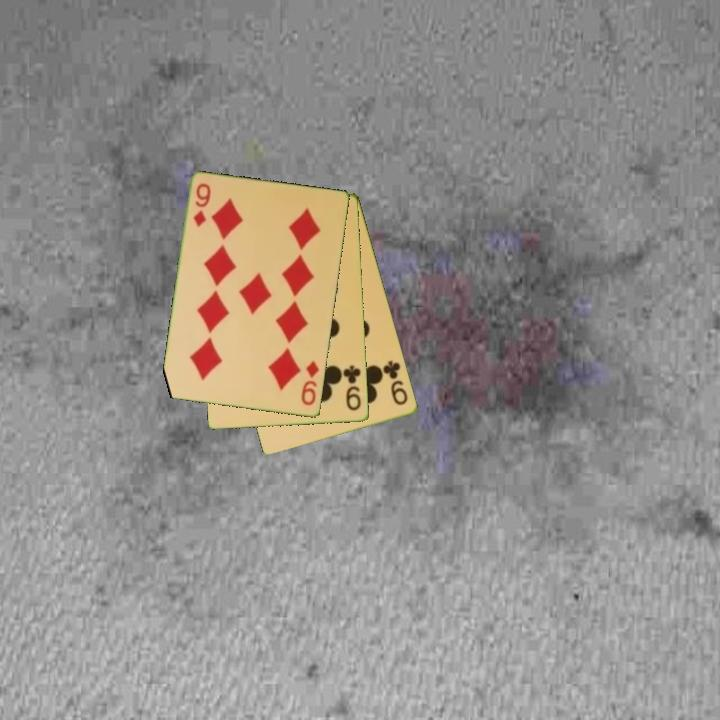9c: (380, 357, 411, 408), (340, 362, 364, 414)
9d: (298, 358, 322, 409), (190, 180, 214, 230)
